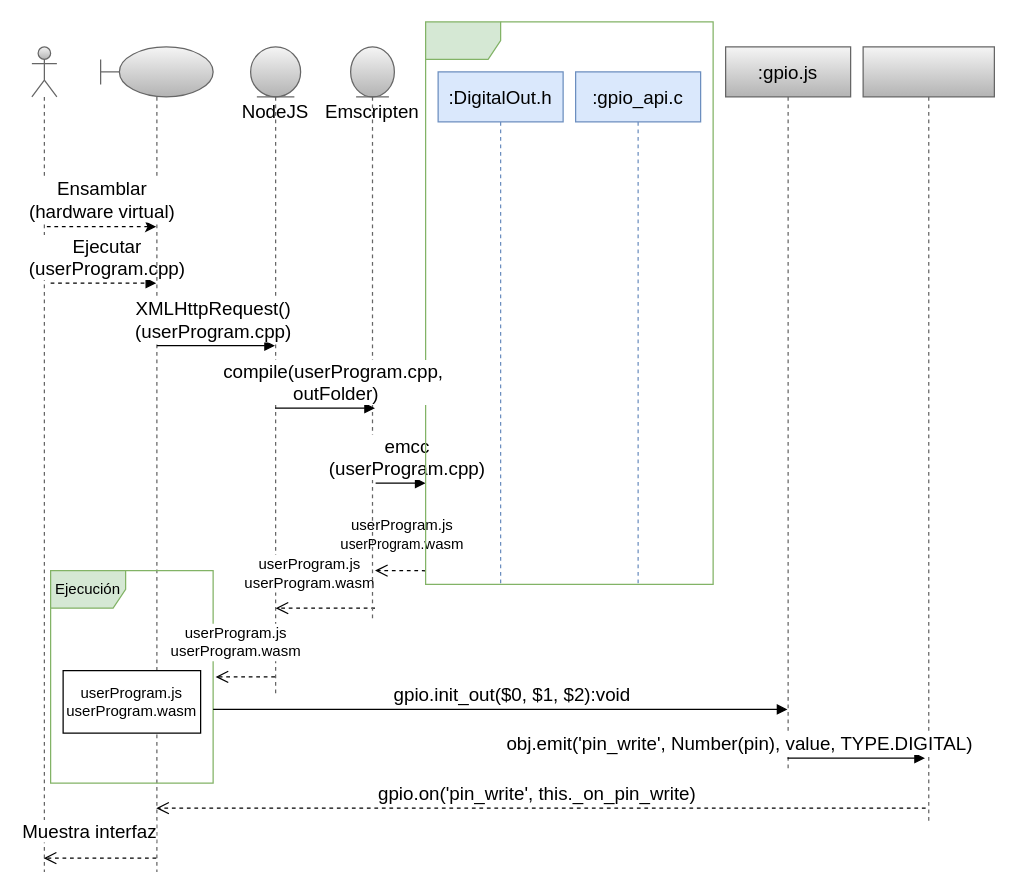
This 1016x894 diagram has some shape labels left out. The shapes that lost their labels are listed below. From the top down, each one's box as (x1, y1, x2, y2) in pixels, then its label:
(424, 21, 713, 584): Compilar
(862, 46, 994, 822): :led.js
(99, 46, 213, 872): Navegador Web
